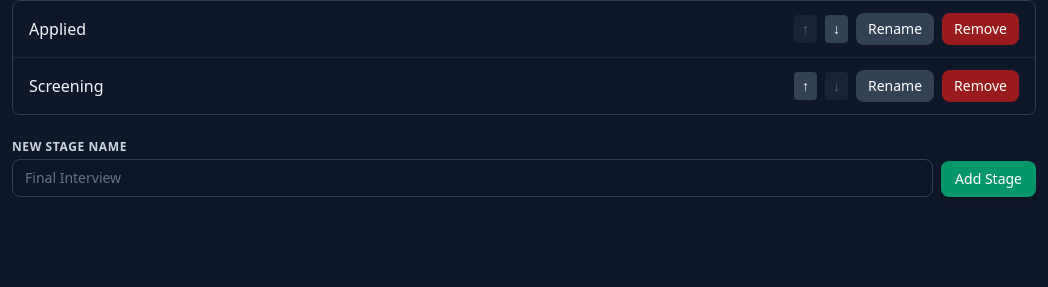
StageConfigPanel › shows a 409 banner on a duplicate stage name (AC-31)
This screenshot has width=1048, height=287.
Type "Screening" into the field labelled "New stage name" at (473, 178), box [12,159,933,197]
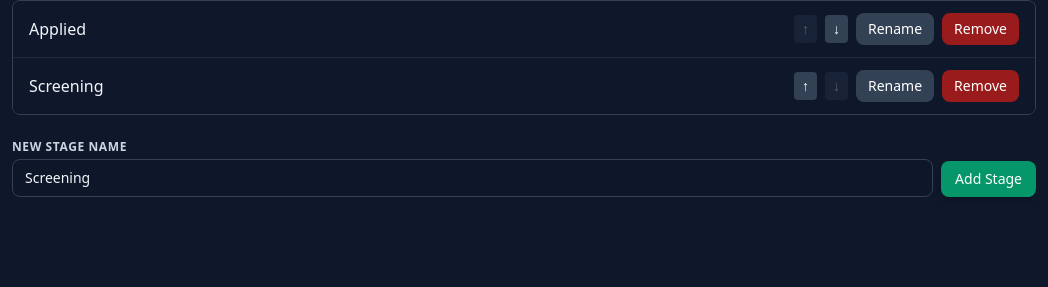
Click the button "Add Stage" at (989, 179), box [941,161,1036,197]
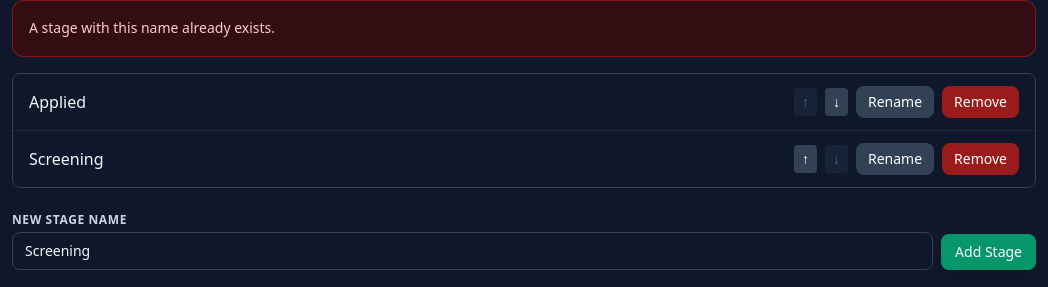
expect the message reads "A stage with this name already exists.": met, box [29,18,275,37]
